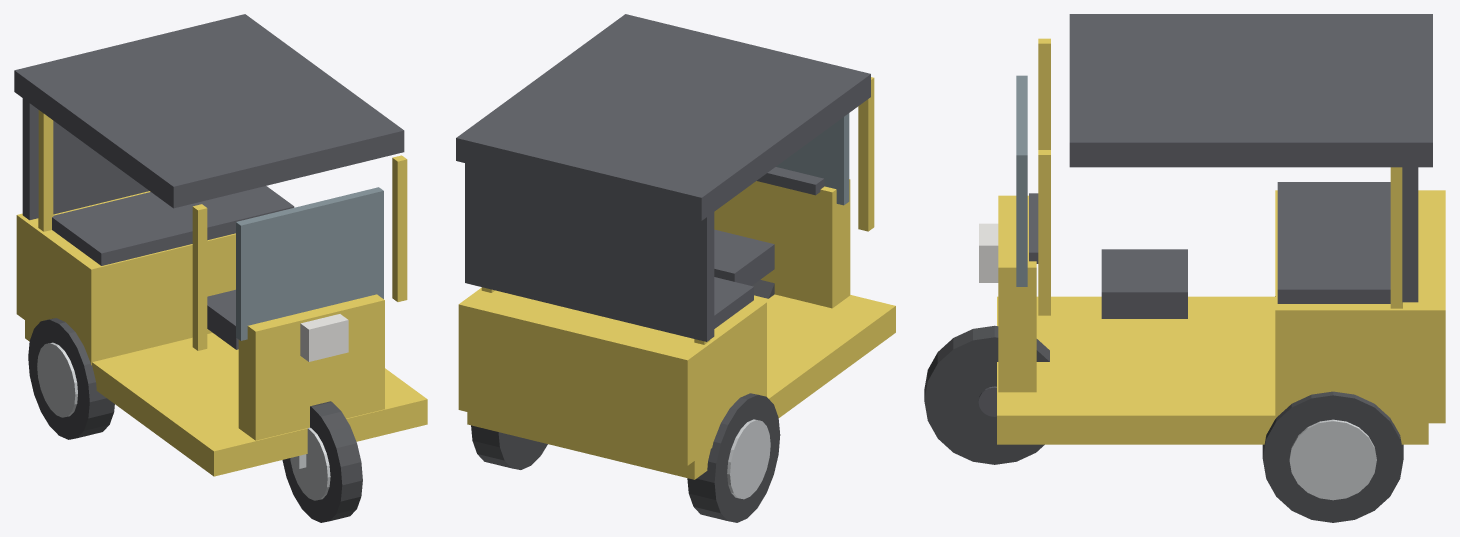
The model's file is keke.glb.
3 renders of one model, left to right at view 1: azimuth 30°, elevation 25°; view 2: azimuth 150°, elevation 25°; view 3: azimuth 270°, elevation 25°, orthographic. The views are drawn at different scales.
Parts seen in each view (by area): view 1: canopy, rear_body, floor, windscreen, front_apron, bench, rear_canopy, front_tire, rear_-1_tire, rear_-1_rim, post_-1_0.56, post_1_0.56 (+4 smaller); view 2: canopy, rear_body, rear_canopy, floor, front_apron, rear_-1_tire, windscreen, driver_seat, rear_-1_rim, post_-1_0.56, rear_1_tire, bench (+1 smaller); view 3: canopy, floor, rear_body, bench, rear_1_tire, front_tire, front_apron, driver_seat, rear_1_rim, windscreen, rear_canopy, post_1_0.56 (+4 smaller).
Boxes of the visible parts, left/top/right/bottom form: canopy: left=14, top=14, right=404, bottom=208; rear_body: left=16, top=191, right=235, bottom=365; floor: left=25, top=320, right=427, bottom=476; windscreen: left=236, top=187, right=383, bottom=340; front_apron: left=238, top=294, right=384, bottom=440; bench: left=52, top=186, right=294, bottom=265; rear_canopy: left=22, top=98, right=148, bottom=220; front_tire: left=282, top=401, right=362, bottom=522; rear_-1_tire: left=28, top=318, right=114, bottom=439; rear_-1_rim: left=37, top=342, right=77, bottom=417; post_-1_0.56: left=192, top=204, right=207, bottom=350; post_1_0.56: left=392, top=155, right=407, bottom=301; canopy: left=456, top=14, right=870, bottom=220; rear_body: left=458, top=288, right=766, bottom=465; rear_canopy: left=465, top=163, right=714, bottom=341; floor: left=467, top=294, right=895, bottom=479; front_apron: left=714, top=179, right=850, bottom=308; rear_-1_tire: left=687, top=393, right=780, bottom=522; windscreen: left=776, top=113, right=849, bottom=205; driver_seat: left=714, top=229, right=774, bottom=285; rear_-1_rim: left=727, top=419, right=770, bottom=499; post_-1_0.56: left=858, top=77, right=874, bottom=231; rear_1_tire: left=471, top=425, right=547, bottom=469; bench: left=714, top=277, right=753, bottom=328; canopy: left=1069, top=14, right=1432, bottom=167; floor: left=997, top=296, right=1428, bottom=444; rear_body: left=1275, top=190, right=1445, bottom=423; bench: left=1277, top=182, right=1390, bottom=303; rear_1_tire: left=1262, top=391, right=1403, bottom=522; front_tire: left=924, top=325, right=1049, bottom=464; front_apron: left=998, top=195, right=1036, bottom=392; driver_seat: left=1101, top=249, right=1187, bottom=318; rear_1_rim: left=1289, top=419, right=1376, bottom=500; windscreen: left=1016, top=75, right=1027, bottom=286; rear_canopy: left=1402, top=167, right=1418, bottom=302; post_1_0.56: left=1038, top=150, right=1050, bottom=315.
Bounding box in the file's own units: 1.36 × 1.85 × 2.3.
